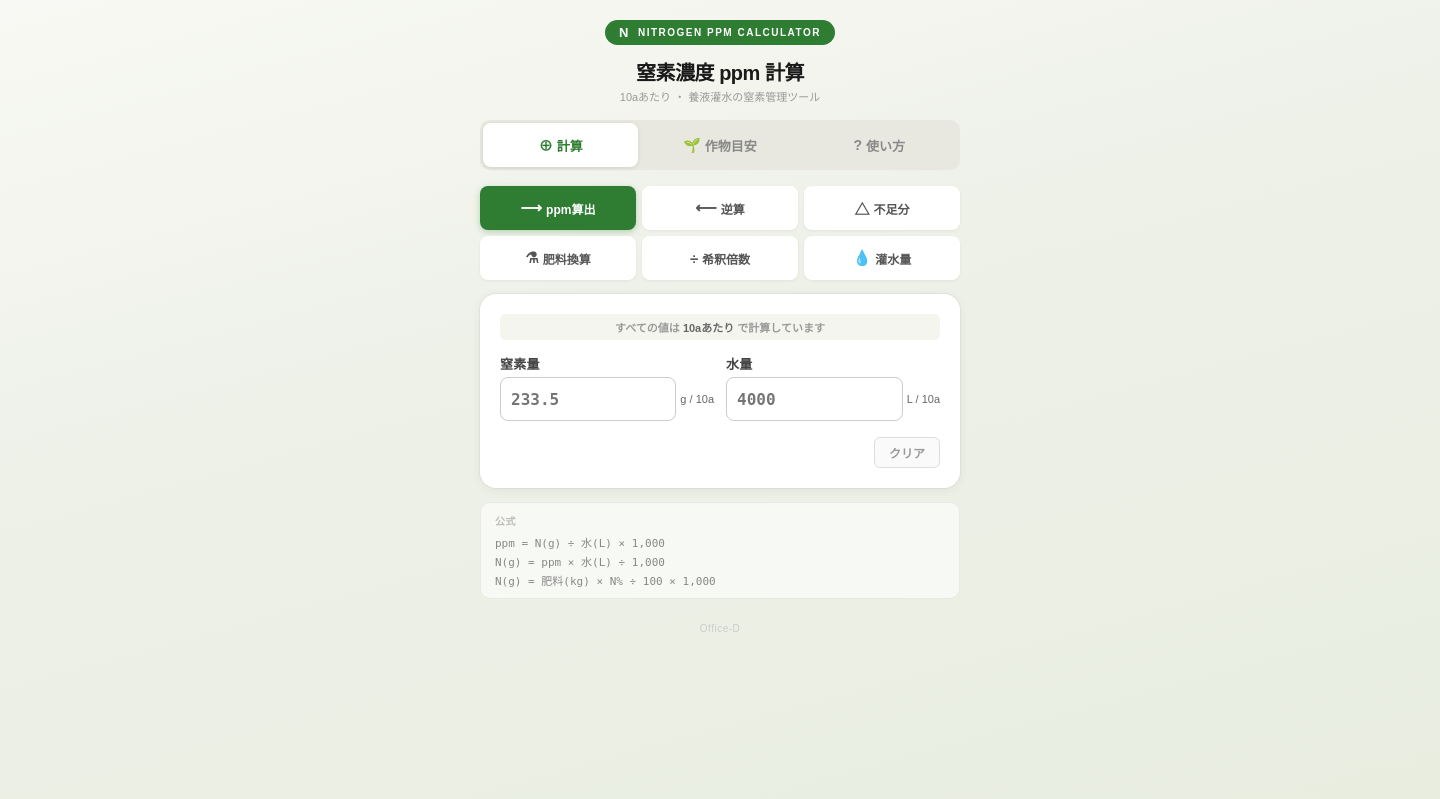
Test: App › 使い方タブに切り替えできる
Click the button "? 使い方" at (879, 145), box [802,123,957,167]
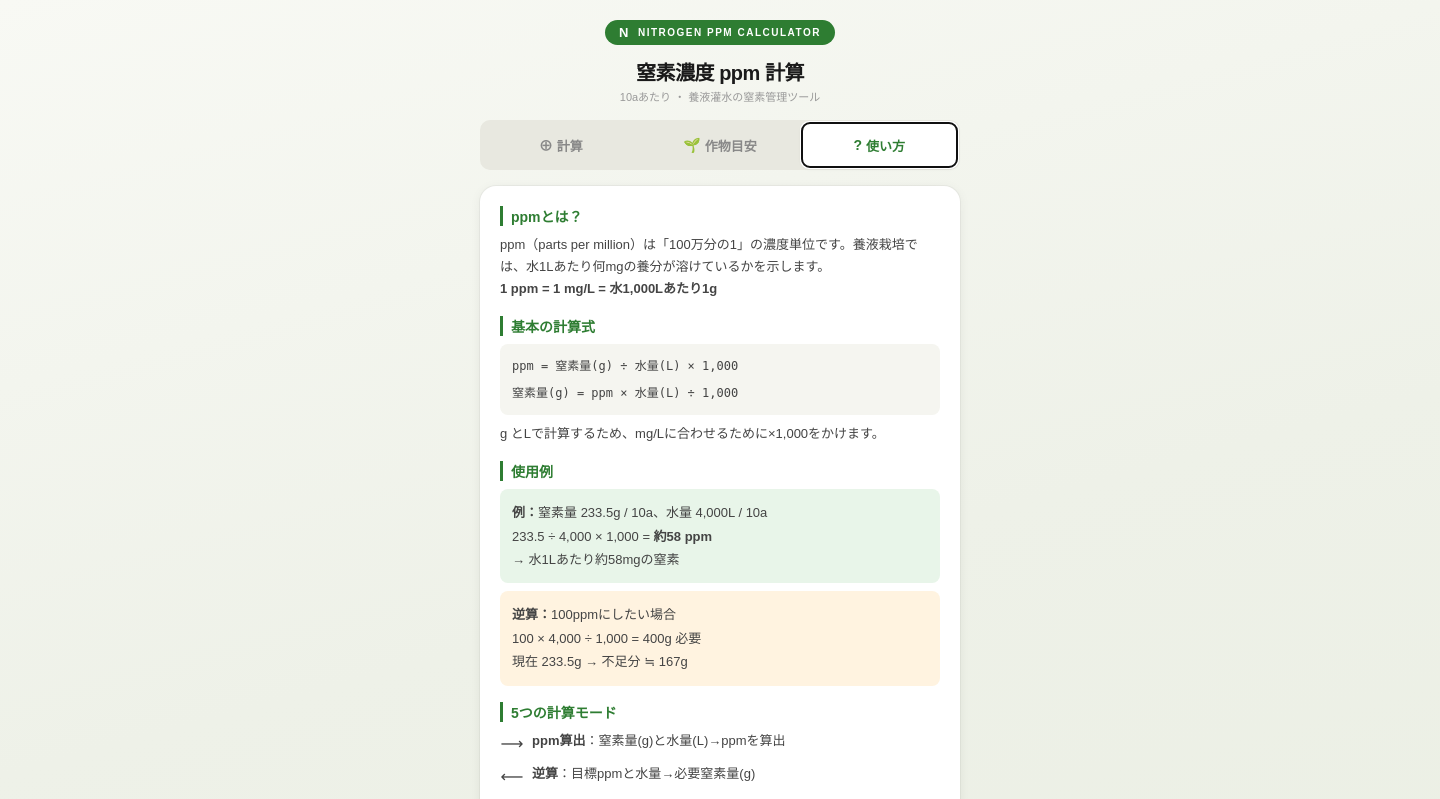
Expected: the heading "ppmとは？" is shown, [500,206,940,226]
